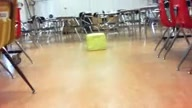cube: (86, 33, 107, 51)
